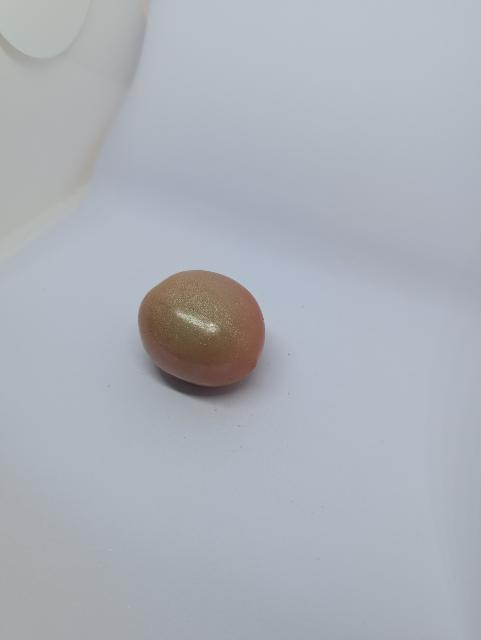turning: (134, 262, 271, 402)
